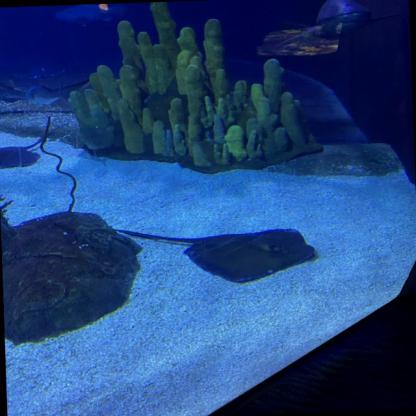fish: (53, 2, 126, 26)
shark: (286, 0, 400, 38)
stingray: (183, 226, 319, 284), (0, 144, 43, 170)
